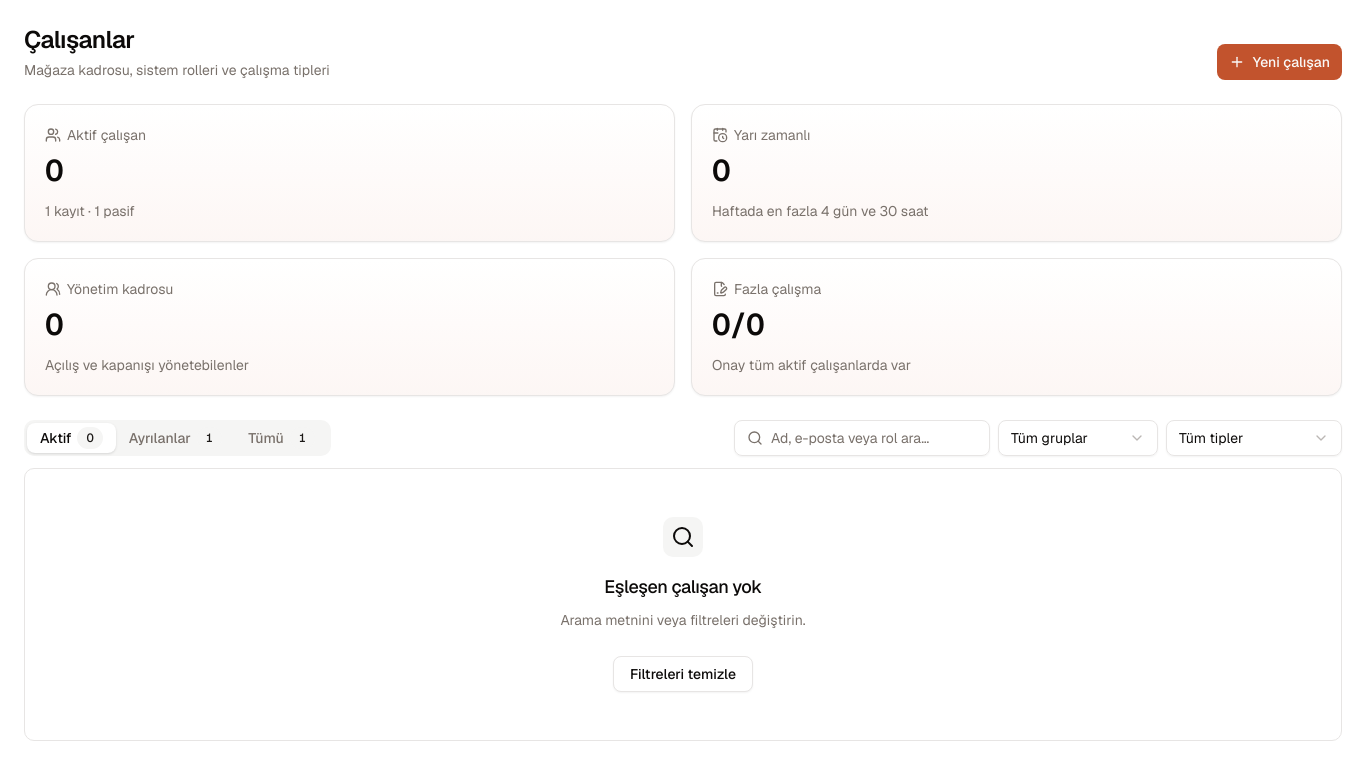
EmployeesPage — pasif çalışan › 5. Pasif çalışan varsayılan "Aktif" görünümde yok; "Ayrılanlar" sekmesinde "Pasif" chip ile görünür
Expected: the text "Aktif çalışan" is shown, [67,125,146,145]
Expected: the text "Ahmet Kaya" is not shown
Step 1. Click the button "Ayrılanlar 1" → [176, 438], box [116,423,235,453]
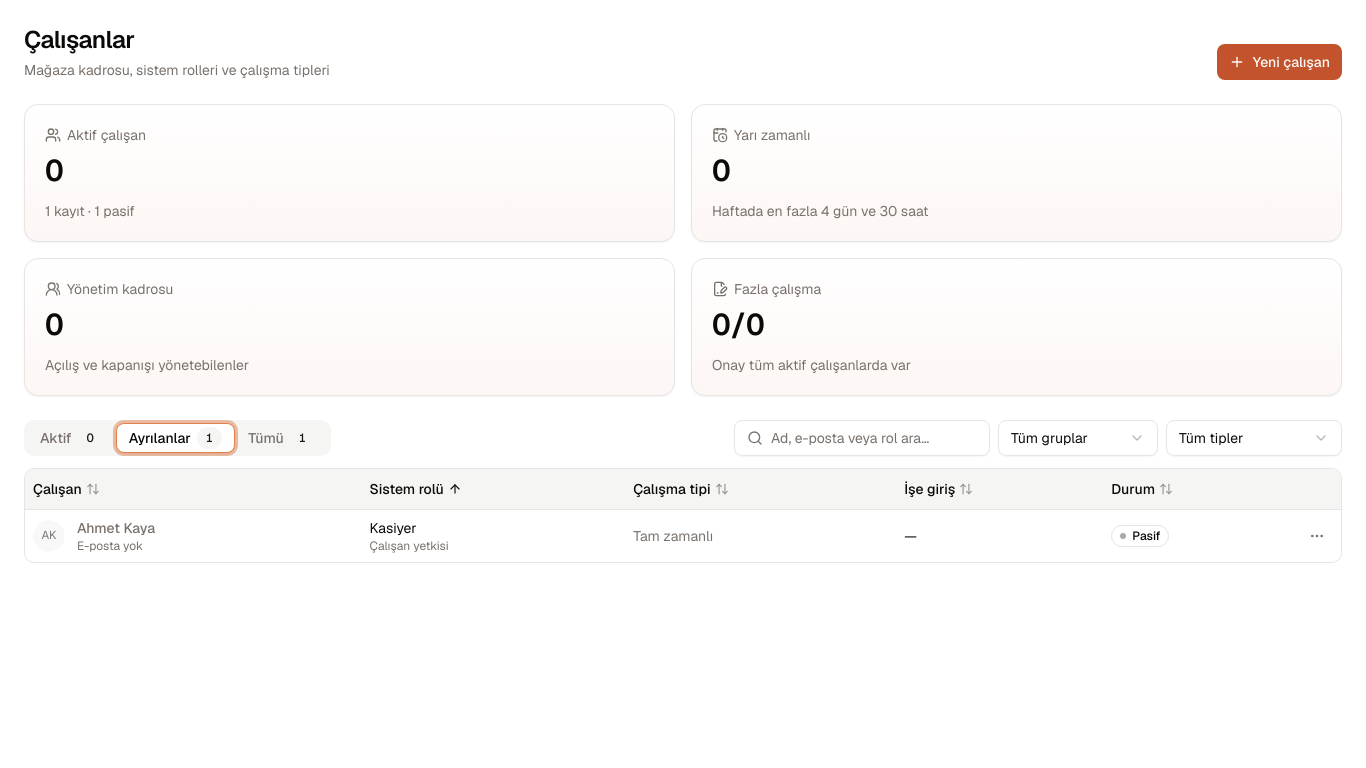
Now the text "Ahmet Kaya" is shown, box [77,518,155,538]
